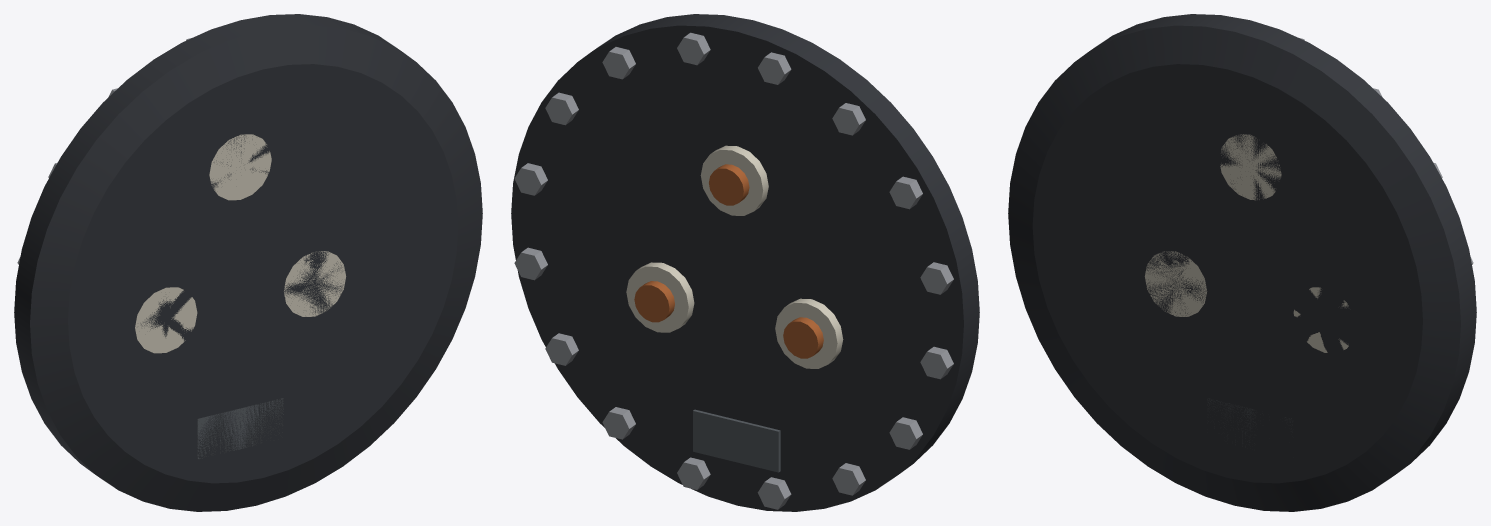
File: s60_flange.obj
The picture shows the model from 3 angles, left to right: view 1: azimuth 30°, elevation 25°; view 2: azimuth 150°, elevation 25°; view 3: azimuth 330°, elevation 25°; orthographic projection.
Parts seen in each view (by area): view 1: s60_flange; view 2: s60_flange; view 3: s60_flange.
Part boxes in pixels (x1=…): s60_flange: x1=14, y1=14, x2=482, y2=511; s60_flange: x1=511, y1=14, x2=979, y2=511; s60_flange: x1=1008, y1=14, x2=1476, y2=511.
Bounding box in the file's own units: 0.8366 × 0.8366 × 0.1082.
